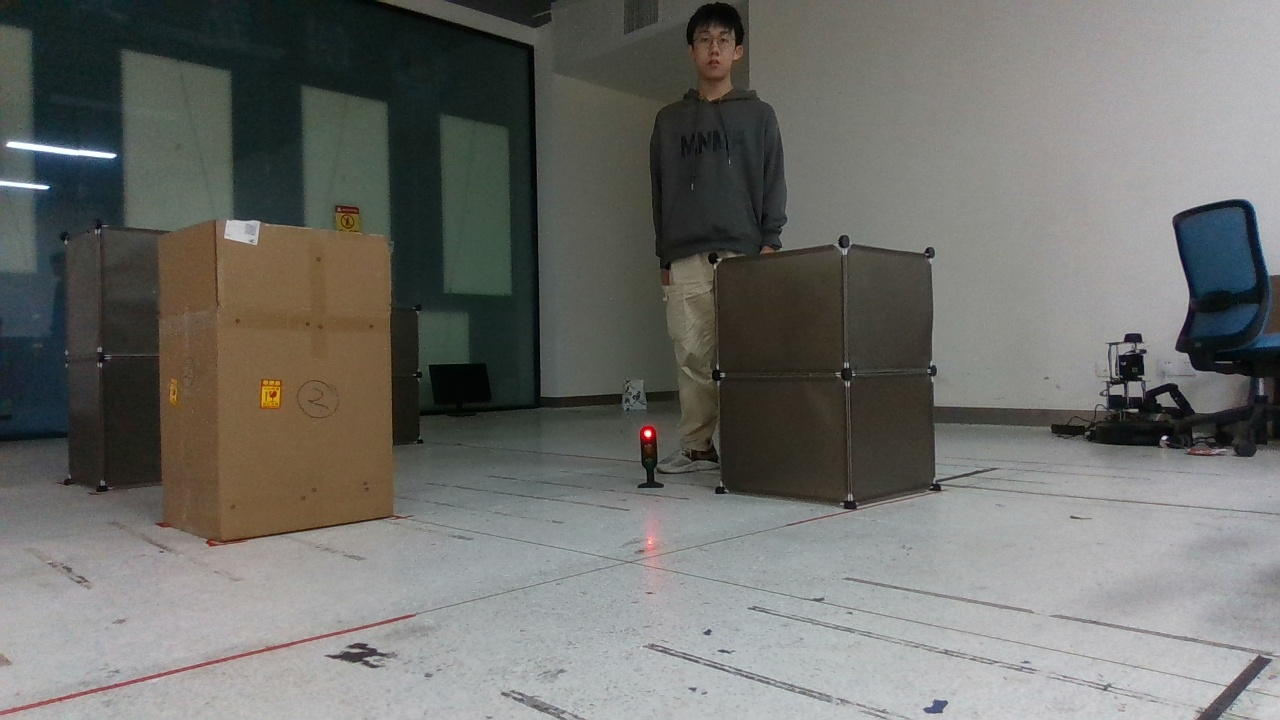red_light: (617, 411, 677, 500)
